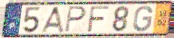5: (23, 6, 41, 34)
8: (111, 6, 130, 33)
A: (39, 6, 65, 34)
F: (86, 5, 111, 34)
G: (132, 5, 154, 33)
P: (64, 6, 88, 34)
